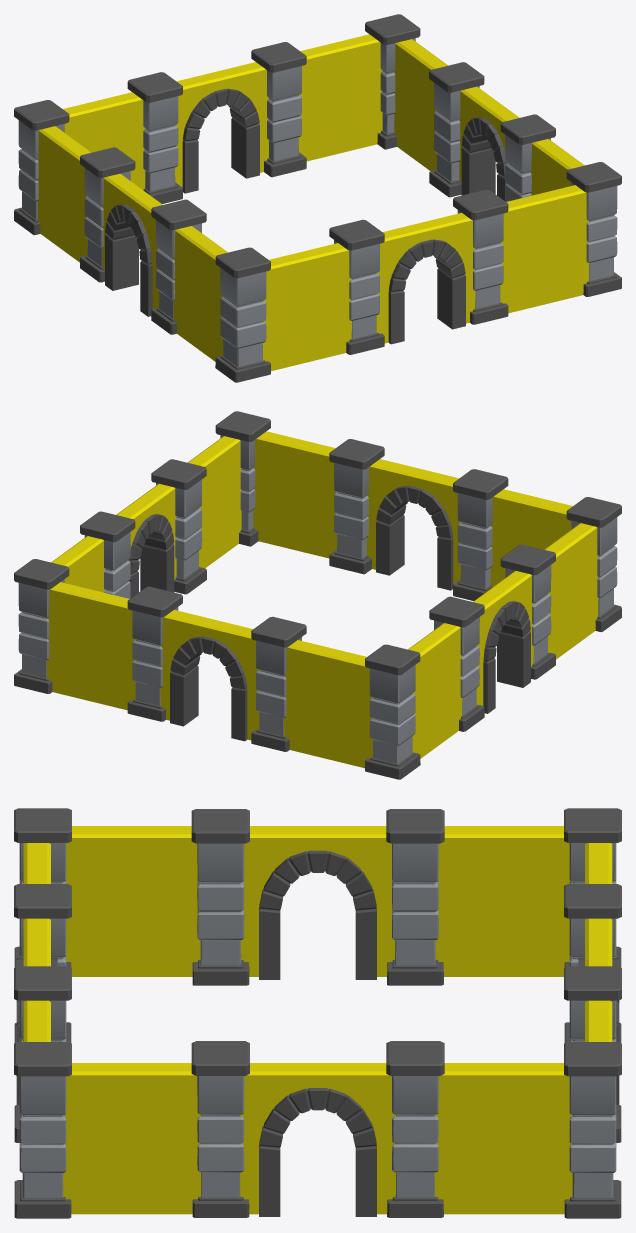
Rendered from TreasureRoom.fbx.
The picture shows the model from 3 angles, top to bottom: view 1: azimuth 30°, elevation 25°; view 2: azimuth 150°, elevation 25°; view 3: azimuth 270°, elevation 25°; orthographic projection. The views are drawn at different scales.
Visible parts, largest first — view 1: Room; view 2: Room; view 3: Room.
Part boxes in pixels (x1,y1,x2,y2): Room: [14, 14, 621, 382]; Room: [14, 411, 621, 779]; Room: [14, 808, 621, 1218].
Bounding box in the file's own units: 1568 × 435 × 1562.
